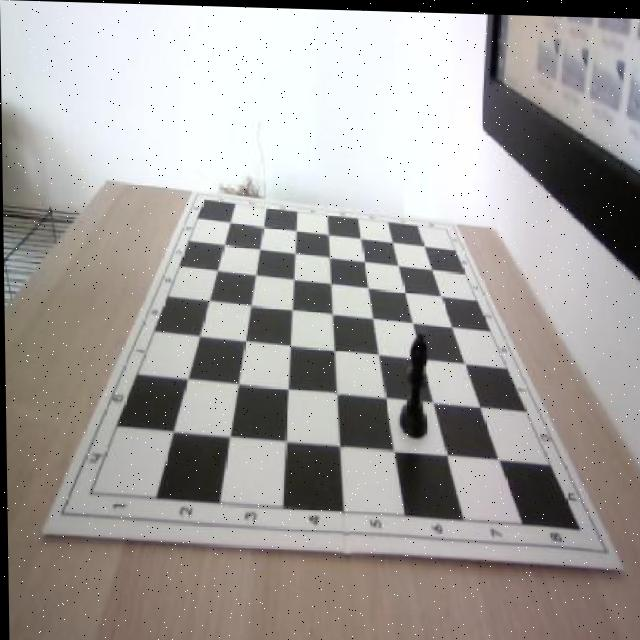bishop: (395, 326, 429, 438)
